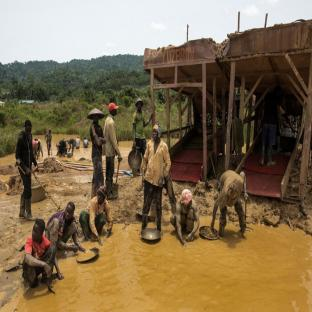Person: (211, 168, 260, 238), (20, 217, 64, 292), (141, 120, 168, 235), (79, 184, 116, 250), (15, 116, 37, 215), (83, 104, 107, 190), (169, 190, 202, 246), (104, 102, 123, 196), (45, 128, 57, 158)
ProcessingEquipment: (219, 16, 312, 201), (132, 28, 217, 188)
